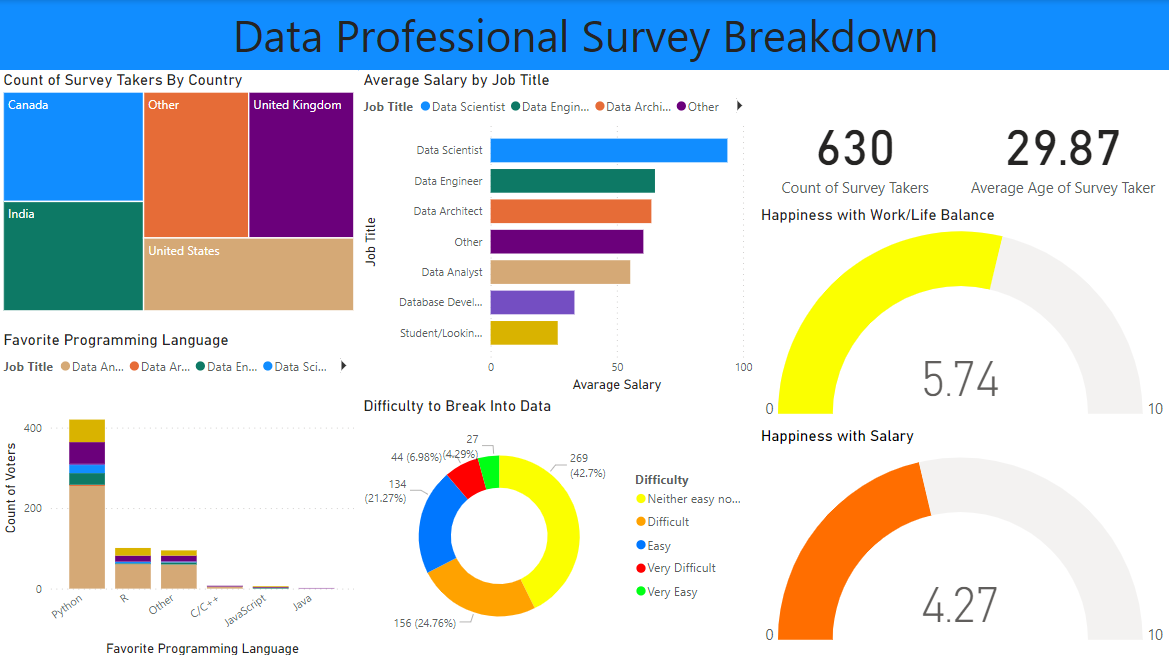

What the dashboard file says about the page in this screenshot:
{"tool":"powerbi","page":{"name":"Page 1","canvas":[1280,720],"ordinal":0},"visuals":[{"type":"textbox","box":[0,0,1280.3,76.8],"z":0},{"type":"card","fields":{"Values":["CountNonNull(Data Professional Survey.Unique ID)"]},"box":[826.6,76.4,215.6,178.2],"z":1000},{"type":"card","fields":{"Values":["Avg(Data Professional Survey.Q10 - Current Age)"]},"box":[1042.2,76.4,238.1,178.2],"z":2000},{"type":"barChart","title":"Average Salary by Job Title","fields":{"Category":["Data Professional Survey.Q1 - Which Title Best Fits your Current Role?.1"],"Y":["Avg(Data Professional Survey.Avarage Salary)"],"Series":["Data Professional Survey.Q1 - Which Title Best Fits your Current Role?.1"]},"box":[392.3,76.4,434.3,356.4],"z":3000},{"type":"columnChart","title":"Favorite Programming Language","fields":{"Category":["Data Professional Survey.Q5 - Favorite Programming Language.1"],"Y":["CountNonNull(Data Professional Survey.Unique ID)"],"Series":["Data Professional Survey.Q1 - Which Title Best Fits your Current Role?.1"]},"box":[0,359.4,392.3,360.9],"z":4000},{"type":"treemap","title":"Count of Survey Takers By Country","fields":{"Group":["Data Professional Survey.Q11 - Which Country do you live in?.1"],"Values":["Count(Data Professional Survey.Q11 - Which Country do you live in?.1)"]},"box":[0,76.4,392.3,268],"z":5000},{"type":"gauge","title":"Happiness with Work/Life Balance","fields":{"Y":["Avg(Data Professional Survey.Q6 - How Happy are you in your Current Position with the following? (Work/Life Balance))"],"MinValue":["Min(Data Professional Survey.Q6 - How Happy are you in your Current Position with the following? (Work/Life Balance))1"],"MaxValue":["Max(Data Professional Survey.Q6 - How Happy are you in your Current Position with the following? (Work/Life Balance))2"]},"box":[826.6,223.1,453.7,242.6],"z":6000},{"type":"gauge","title":"Happiness with Salary","fields":{"Y":["Avg(Data Professional Survey.Q6 - How Happy are you in your Current Position with the following? (Salary))"],"MinValue":["Min(Data Professional Survey.Q6 - How Happy are you in your Current Position with the following? (Salary))1"],"MaxValue":["Max(Data Professional Survey.Q6 - How Happy are you in your Current Position with the following? (Salary))2"]},"box":[826.6,465.7,453.7,253.1],"z":7000},{"type":"donutChart","title":"Difficulty to Break Into Data","fields":{"Category":["Data Professional Survey.Q7 - How difficult was it for you to break into Data?"],"Y":["CountNonNull(Data Professional Survey.Q7 - How difficult was it for you to break into Data?)"]},"box":[392.3,432.8,434.3,286],"z":8000}]}

Visuals, with their boxes in screenshot pixels (x1, y1, x2, y2), scaled from the page's 1280x720 canvas onto the 1169x655 screenshot:
textbox: {"x1": 0, "y1": 0, "x2": 1168, "y2": 70}
card - CountNonNull(Data Professional Survey.Unique ID): {"x1": 755, "y1": 70, "x2": 952, "y2": 232}
card - Avg(Data Professional Survey.Q10 - Current Age): {"x1": 952, "y1": 70, "x2": 1168, "y2": 232}
"Average Salary by Job Title" barChart: {"x1": 358, "y1": 70, "x2": 755, "y2": 394}
"Favorite Programming Language" columnChart: {"x1": 0, "y1": 327, "x2": 358, "y2": 654}
"Count of Survey Takers By Country" treemap: {"x1": 0, "y1": 70, "x2": 358, "y2": 313}
"Happiness with Work/Life Balance" gauge: {"x1": 755, "y1": 203, "x2": 1168, "y2": 424}
"Happiness with Salary" gauge: {"x1": 755, "y1": 424, "x2": 1168, "y2": 654}
"Difficulty to Break Into Data" donutChart: {"x1": 358, "y1": 394, "x2": 755, "y2": 654}
